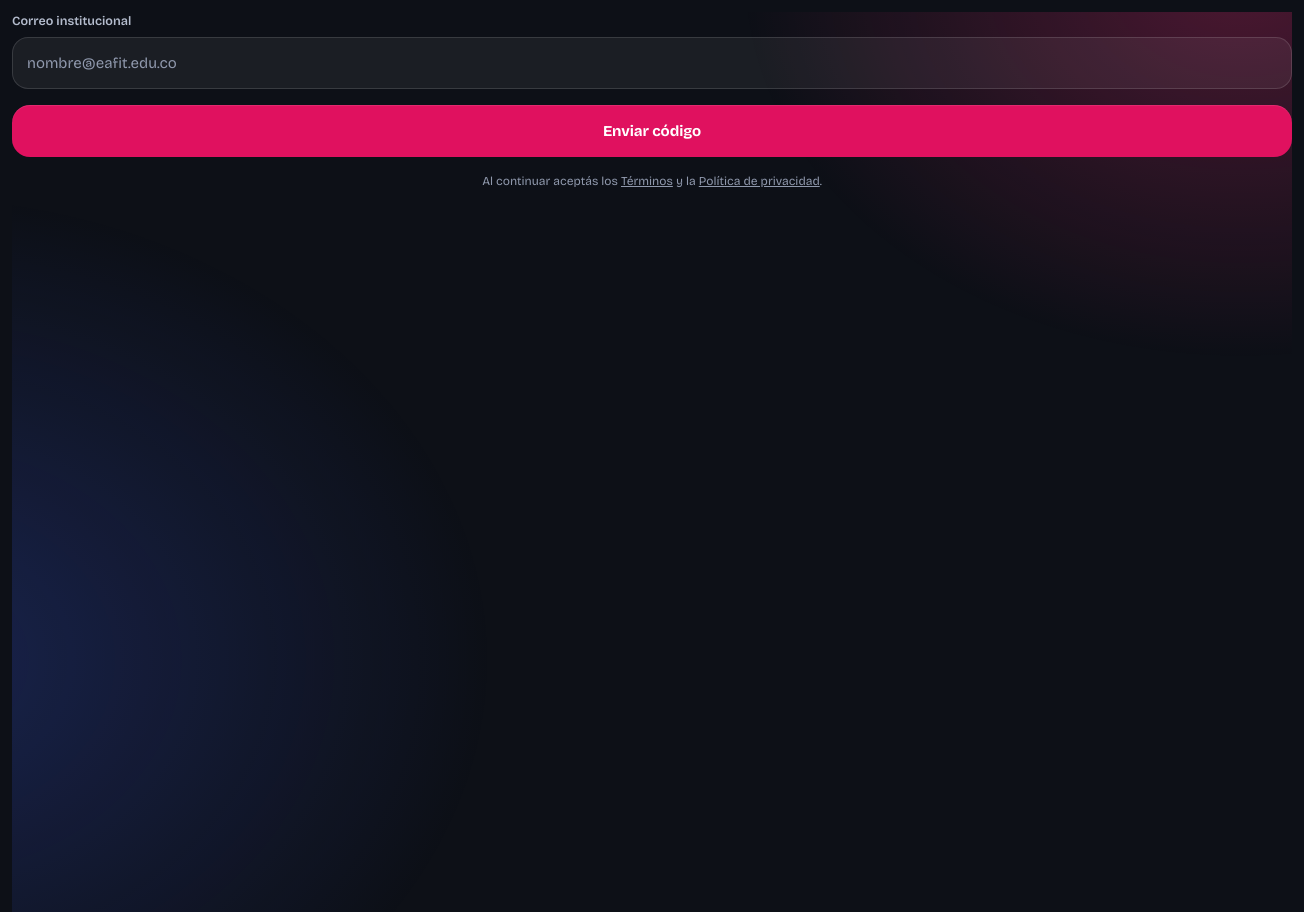
Scenario: EmailEntryForm › records no cooldown when the request failed
Type "ana@eafit.edu.co" into the field labelled "Correo institucional" at (652, 63), box [12,37,1292,89]
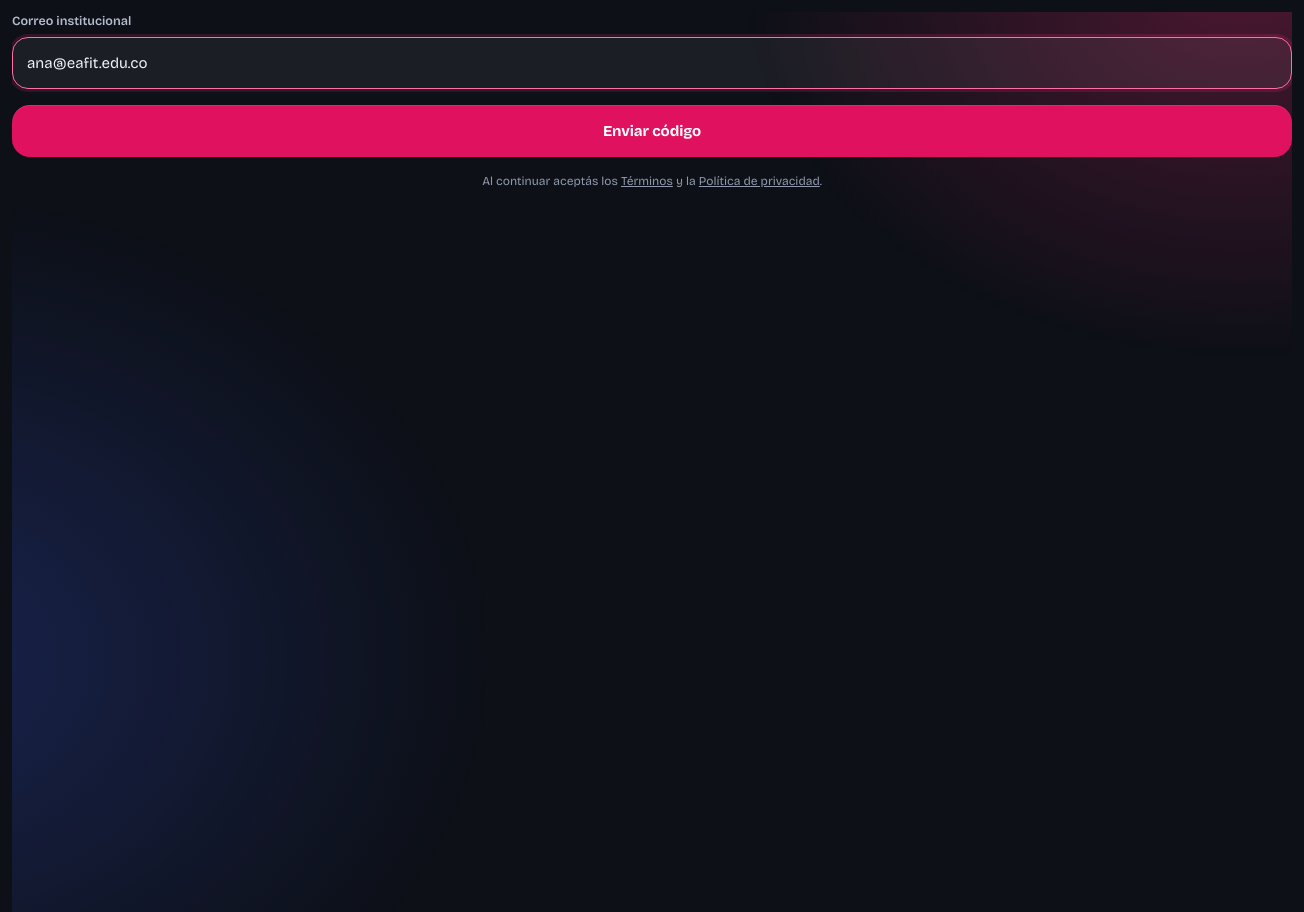
Click the button "Enviar código" at (652, 131), box [12,105,1292,157]
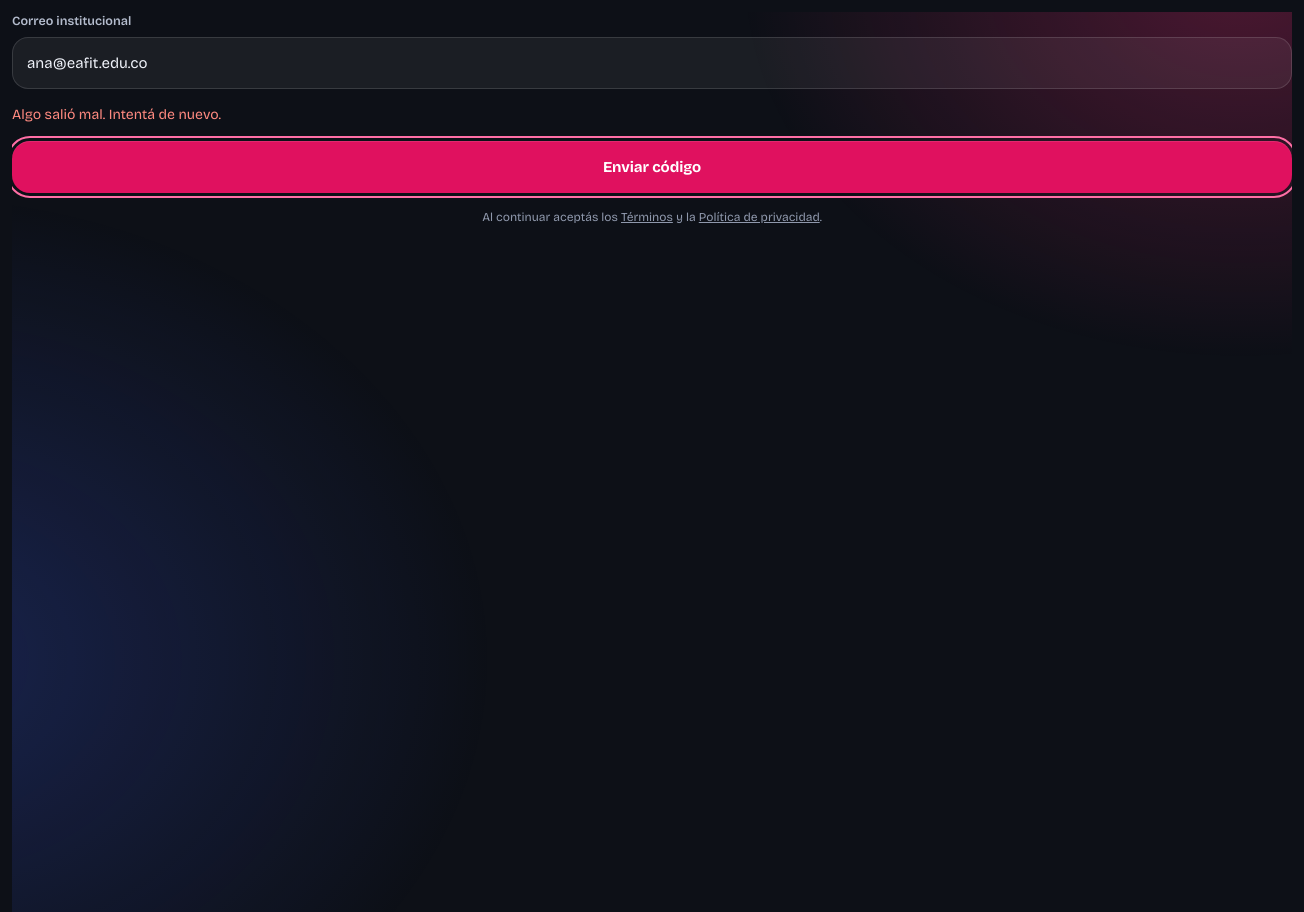
Now the text "Algo salió mal. Intentá de nuevo." is shown, box [12,106,221,123]
